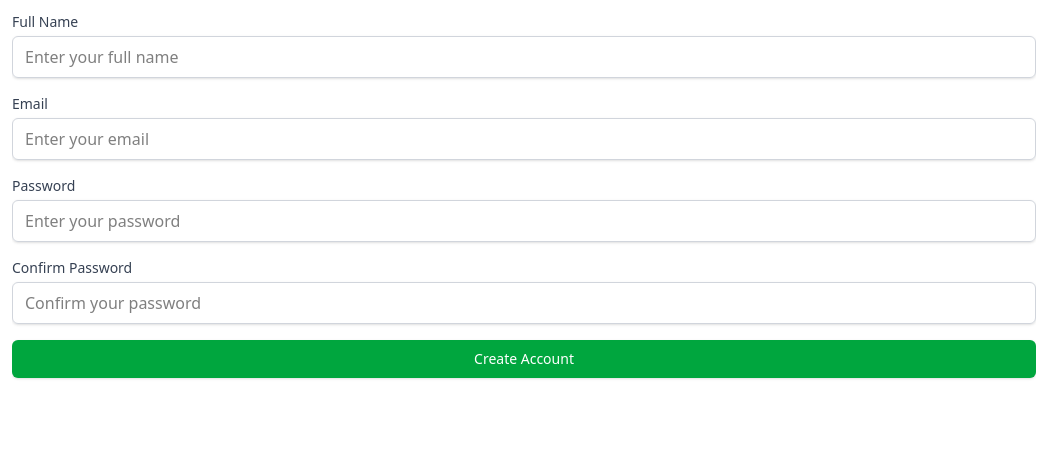
Test case: Form Validation › should show validation errors for registration form
Note: Submit empty form
Click the button "Create Account" at (524, 359), box [12,340,1036,378]
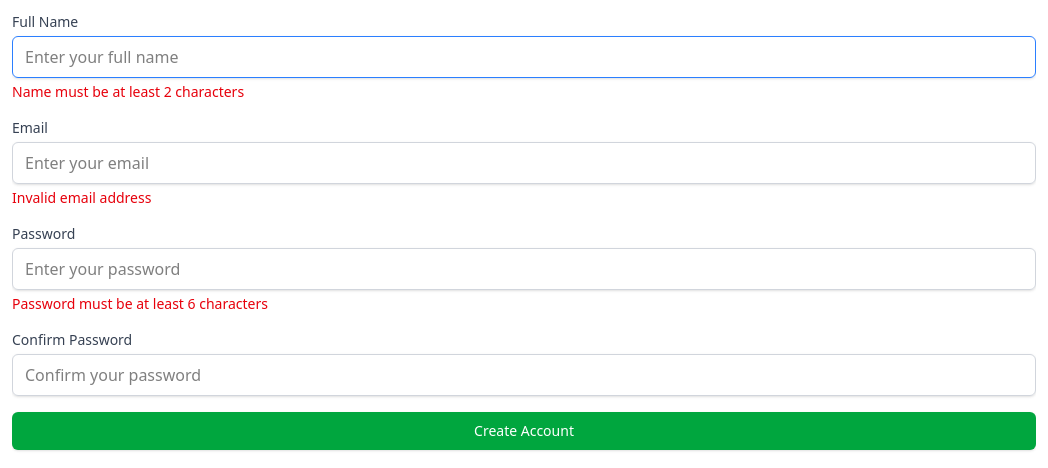
Result: the text "Name must be at least 2 characters" is shown at [12,82,244,101]
Result: the text "Invalid email address" is shown at [12,188,151,207]
Result: the text "Password must be at least 6 characters" is shown at [12,294,268,313]
